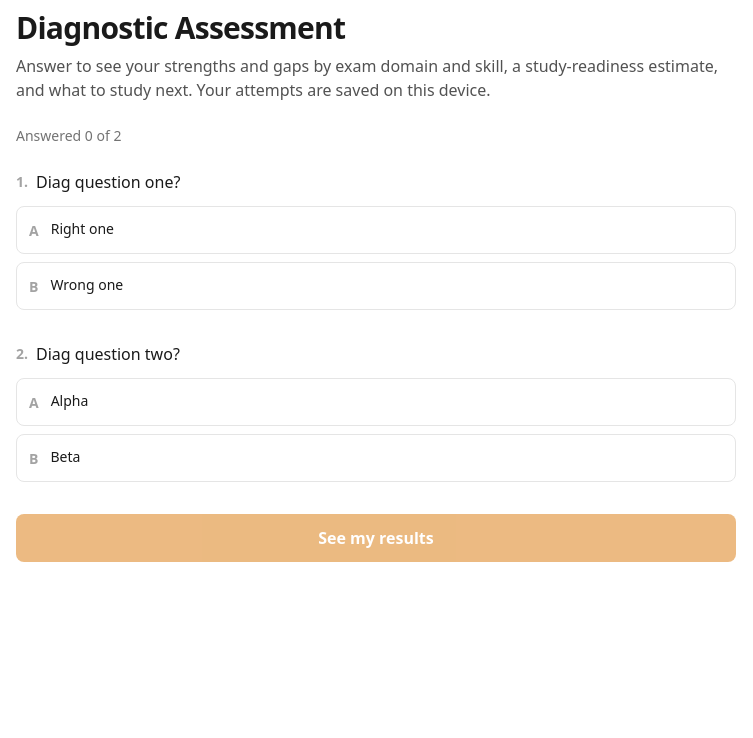
it: DiagnosticRunner › produces a readiness estimate with a not-a-pass-prediction disclaimer
The width and height of the screenshot is (753, 738).
Click the text "Right one": click(82, 228) [51,219,114,238]
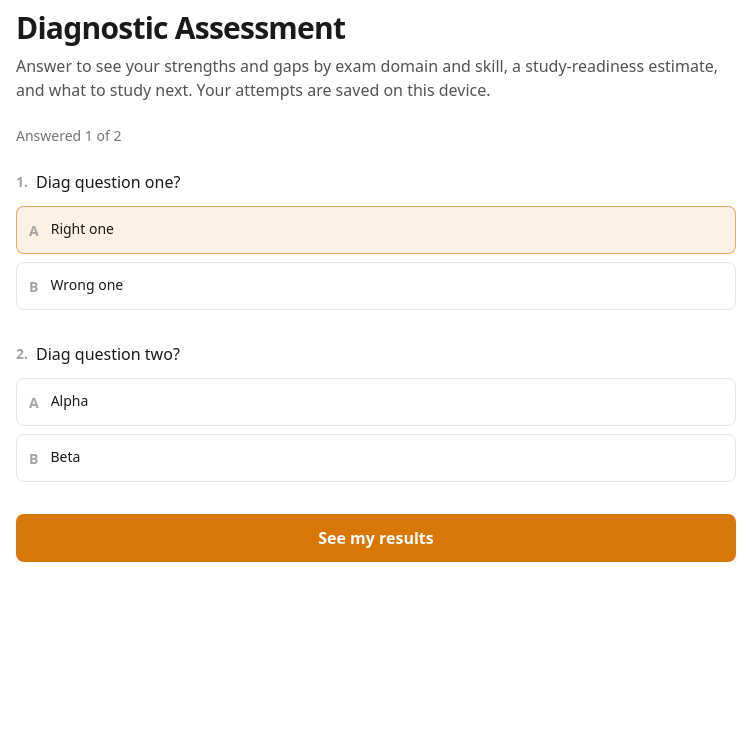
Click the text "Alpha": click(70, 400) [51,391,88,410]
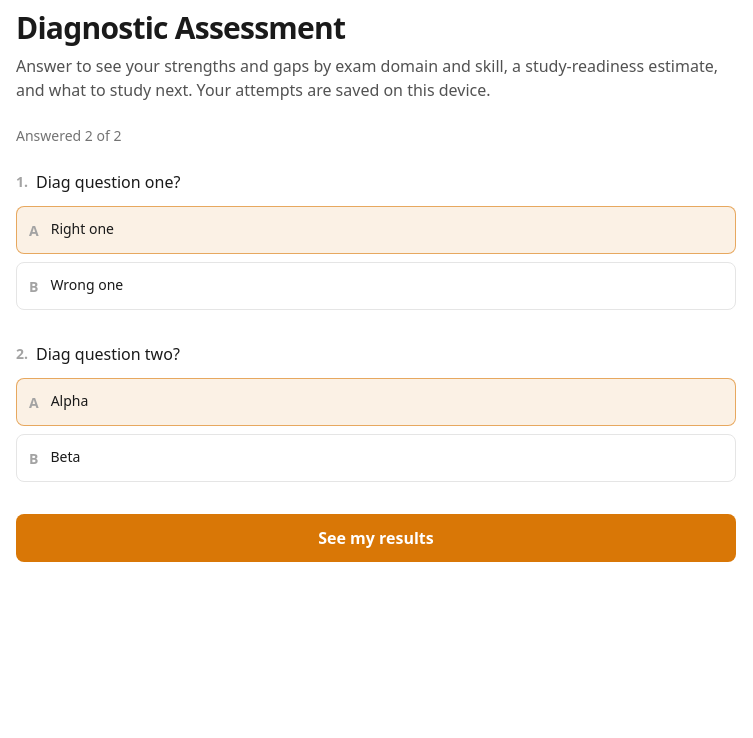
Click the button "See my results": click(376, 538) [16,514,736,562]
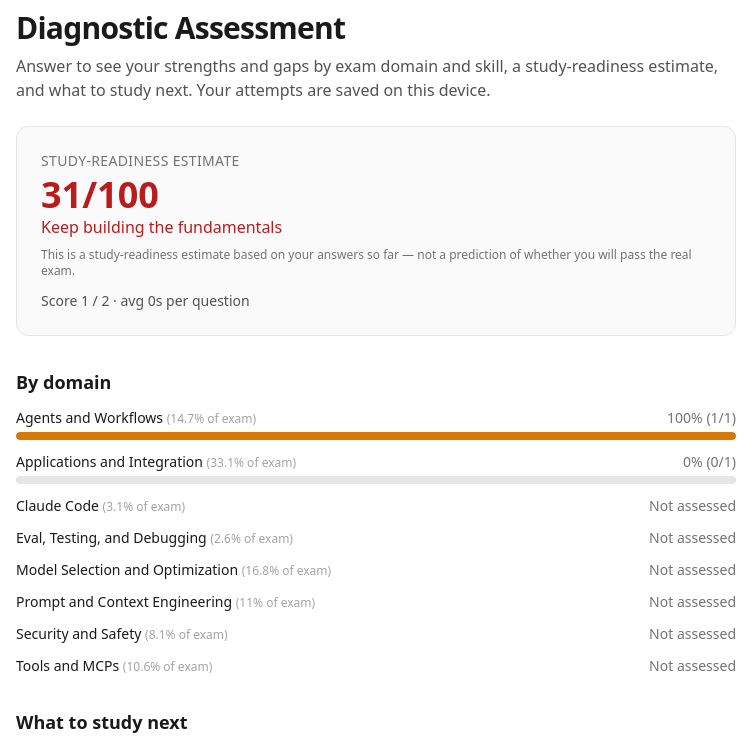
Now the heading "Study-readiness estimate" is shown, box [41,151,240,170]
Now the text "not a prediction of whether you will pass" is shown, box [41,246,692,279]
Now the heading "By domain" is shown, box [16,370,111,394]
